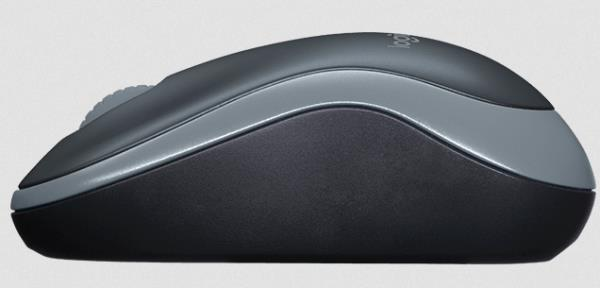logitech-mouse-m185: (9, 32, 597, 269)
